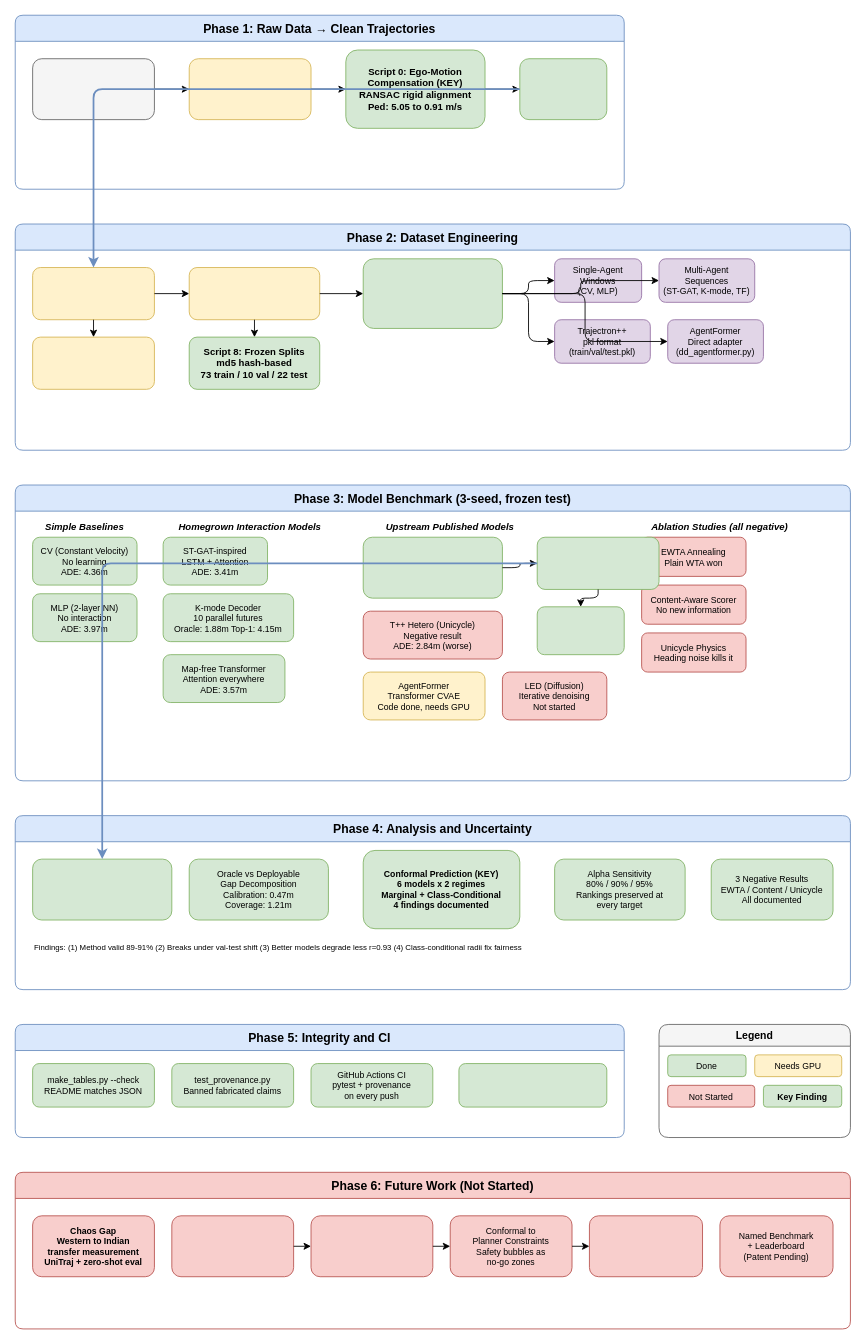
The diagram is 866 pixels wide and 1344 high, and some of its shapes have lost their labels. Each missing label, with the centre of its shape:
3-Seed Evaluation on Frozen Test Set summary.json: (597,562)
Canonical Dataset (KEY) 718 sequences 10,576 agents (vs 58% loss old filter): (432,293)
CARLA Simulation Replay IDD-3D trajectories as scripted actors: (232,1246)
Frenet/MPC Planner Cost = Progress + Comfort + Collision Risk: (371,1246)
IDD-3D Raw Labels 105 scenes, ego-frame Per-frame JSON: (93,89)
make_tables.py Auto-generated README tables: (580,630)
Per-Class Fairness Audit 16x ADE disparity (Car 4.08 vs Animal 0.25): (102,889)
RSS Violations Collision rates, near-miss, TTC/PET: (646,1246)
Script 1: Parse positions parsed_positions/*.csv: (249,89)
Script 2: Consolidate Per-scene CSVs to one trajectories.csv: (93,293)
Script 3: Windows 2s obs to 6s pred 4,820 windows: (93,362)
Script 4: Multi-agent export 105 scene NPZs (pos, mask, vel, type): (254,293)
Structurally impossible to ship fabricated numbers: (532,1085)
Trajectron++ (BEST) LSTM + GNN + CVAE Most-likely: 2.58m Oracle: 1.37m: (432,567)
World-Frame Positions parsed_positions_world/*.csv: (563,89)
